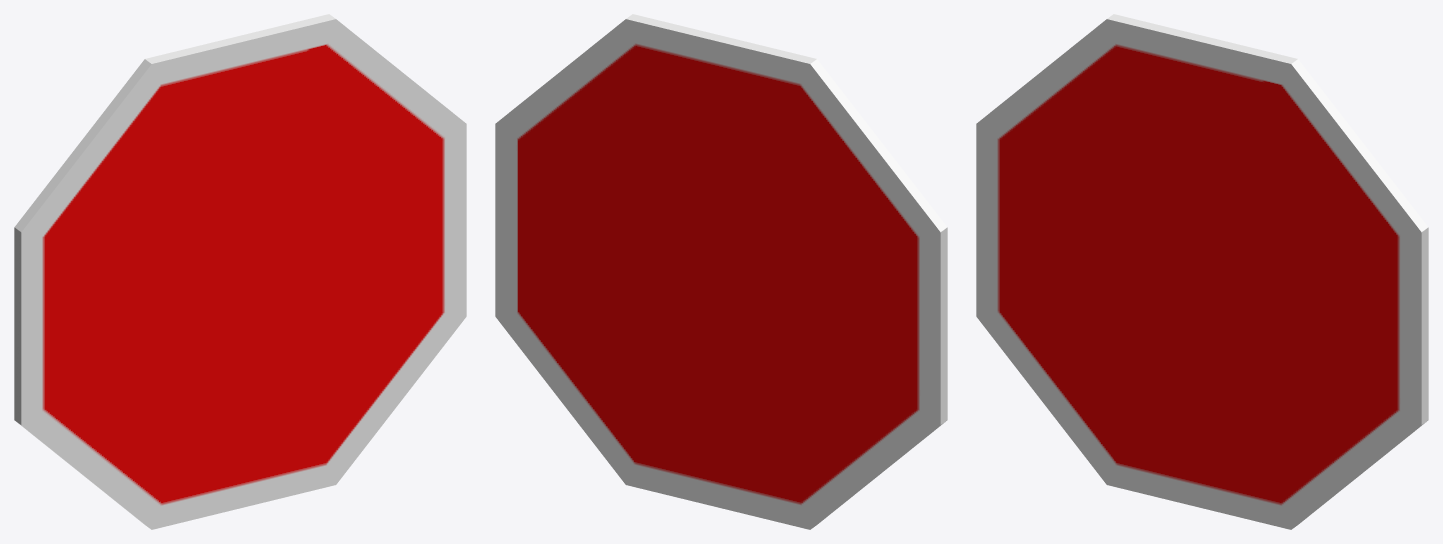
Rendered from Stop sign.gltf.
The picture shows the model from 3 angles, left to right: view 1: azimuth 30°, elevation 25°; view 2: azimuth 150°, elevation 25°; view 3: azimuth 330°, elevation 25°; orthographic projection.
Parts seen in each view (by area): view 1: SignBoard_White_0; view 2: SignBoard_White_0; view 3: SignBoard_White_0.
Boxes of the visible parts, x1,y1,x2,y2 form: SignBoard_White_0: (14, 14, 466, 529); SignBoard_White_0: (495, 14, 947, 529); SignBoard_White_0: (976, 14, 1428, 529).
Bounding box in the file's own units: 0.7933 × 0.7933 × 0.0214.
1 material, 1 textured.
